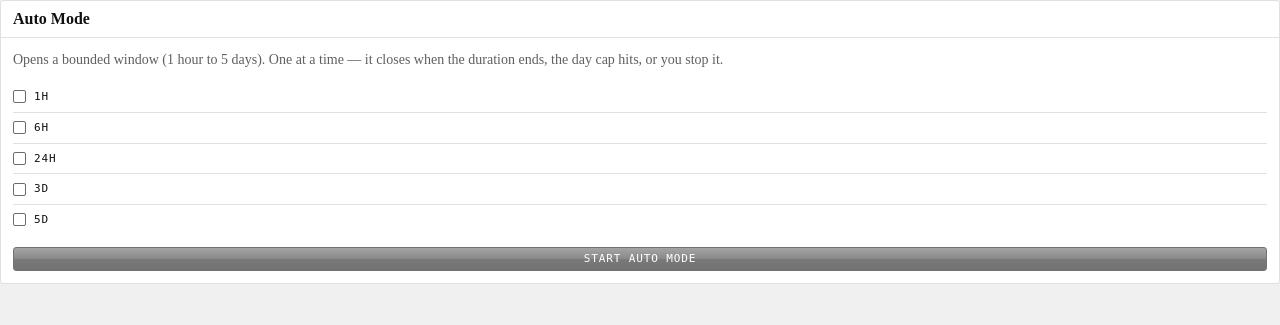
Scenario: u7 auto mode panel (V7-T14) › a refused START renders the server envelope — never a silent no-op
This screenshot has width=1280, height=325.
Click the radio button labelled "1h" at (20, 97), box [13,82,1267,113]
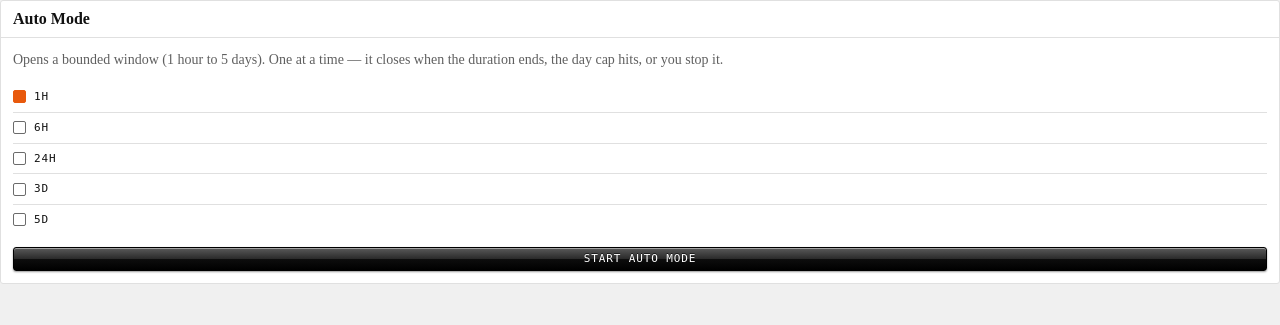
Click the button "Start Auto Mode" at (640, 259), box [13,247,1267,271]
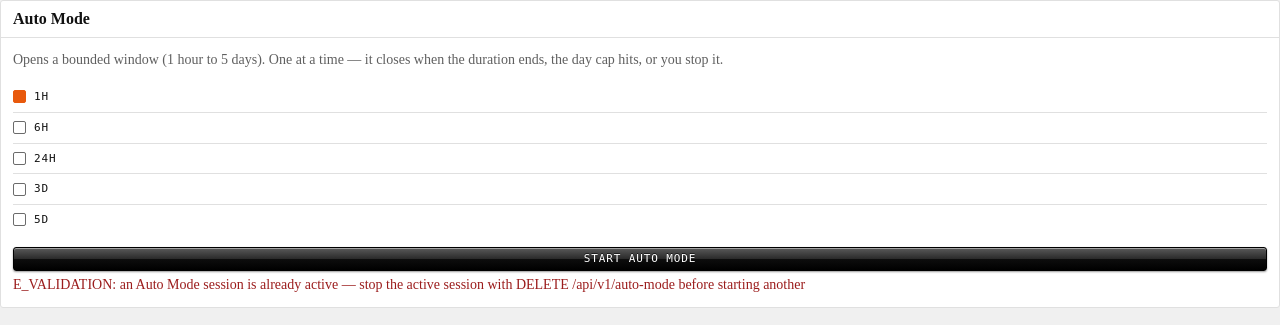
Expected: the message shows "E_VALIDATION", [13,277,805,292]
Expected: the message shows "DELETE /api/v1/auto-mode", [13,277,805,292]
